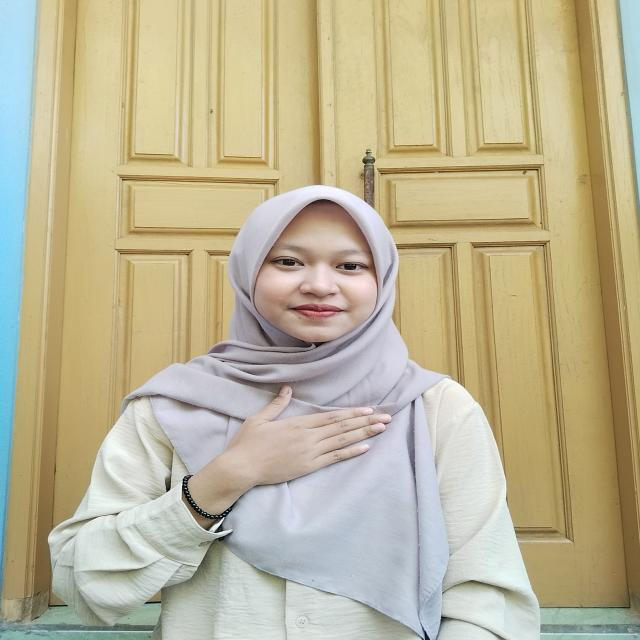tolong: (192, 384, 402, 509)
